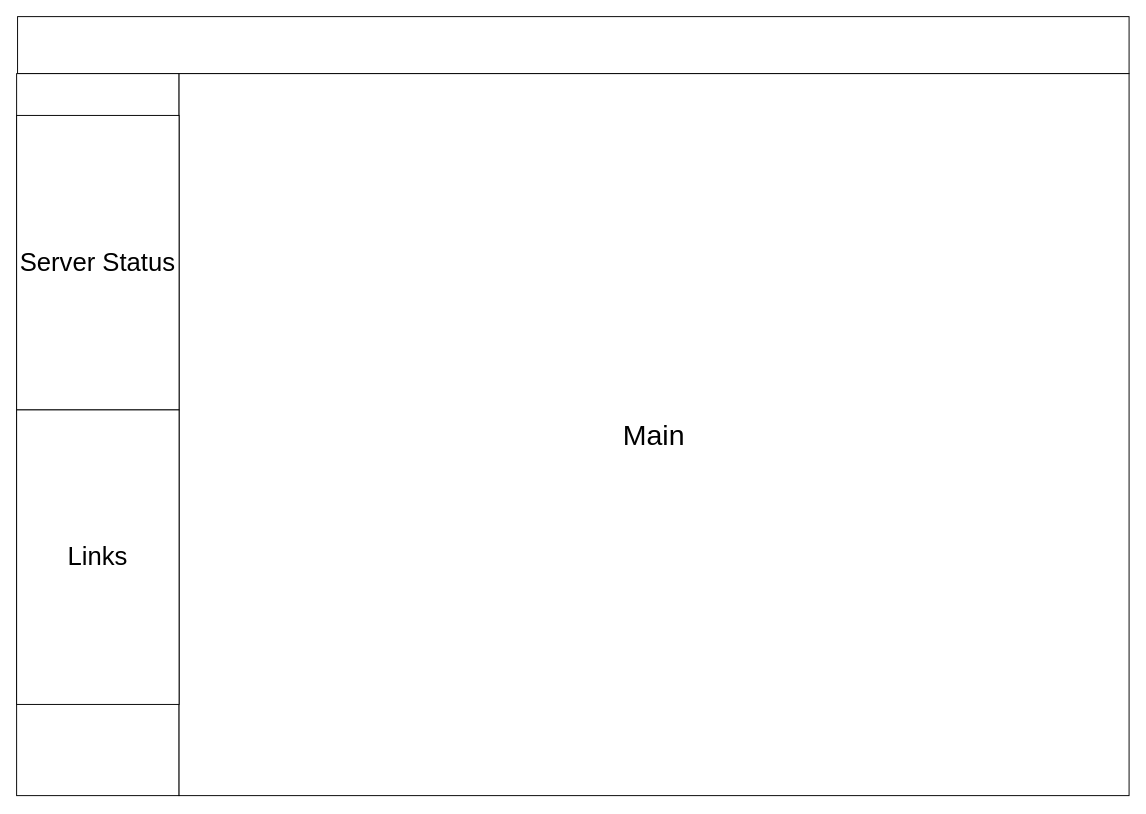
The diagram is 1146 pixels wide and 814 high, and some of its shapes have lost their labels. The shapes that lost their labels are listed below. From the top down, each one's box as (x1, y1, x2, y2) in pixels, then its label:
(17, 16, 1129, 74): Header
(16, 73, 179, 796): Sidebar
